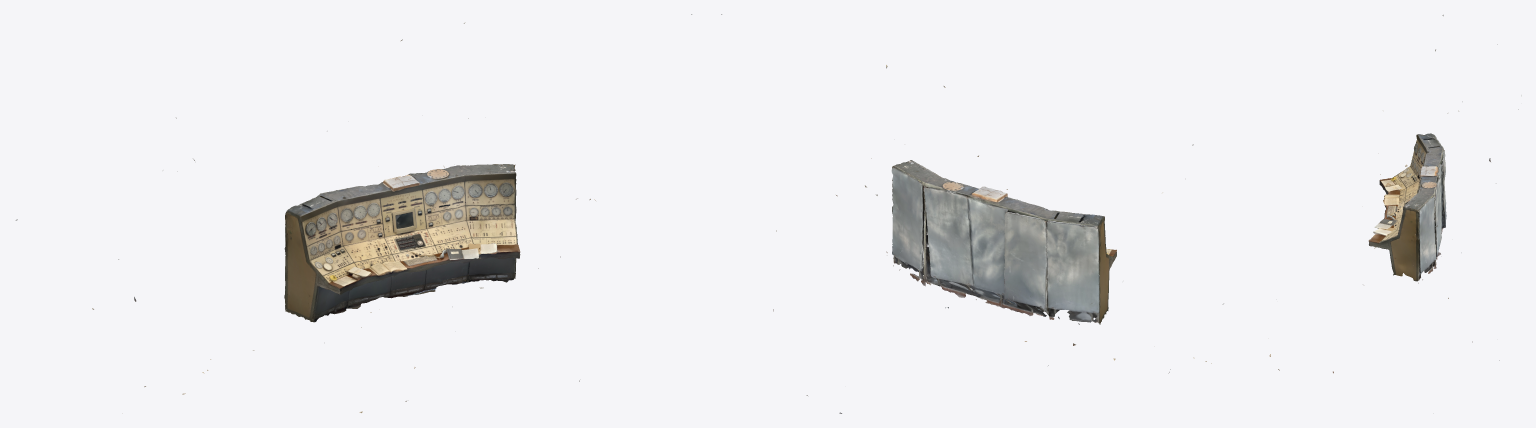
Rendered from reactor-control.glb.
3 renders of one model, left to right at view 1: azimuth 30°, elevation 25°; view 2: azimuth 150°, elevation 25°; view 3: azimuth 270°, elevation 25°, orthographic. The views are drawn at different scales.
Parts seen in each view (by area): view 1: ROT-54 Control panel - Armenia.079; view 2: ROT-54 Control panel - Armenia.079; view 3: ROT-54 Control panel - Armenia.079.
Part boxes in pixels (left/top/right/bottom): ROT-54 Control panel - Armenia.079: left=284, top=164, right=538, bottom=322; ROT-54 Control panel - Armenia.079: left=887, top=160, right=1116, bottom=324; ROT-54 Control panel - Armenia.079: left=1368, top=133, right=1461, bottom=283.
Bounding box in the file's own units: 4.12 × 2.36 × 1.27.
Materials: 1 (1 with a texture image).
